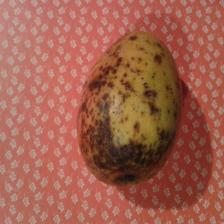Mango Semirotten: (79, 31, 179, 184)
